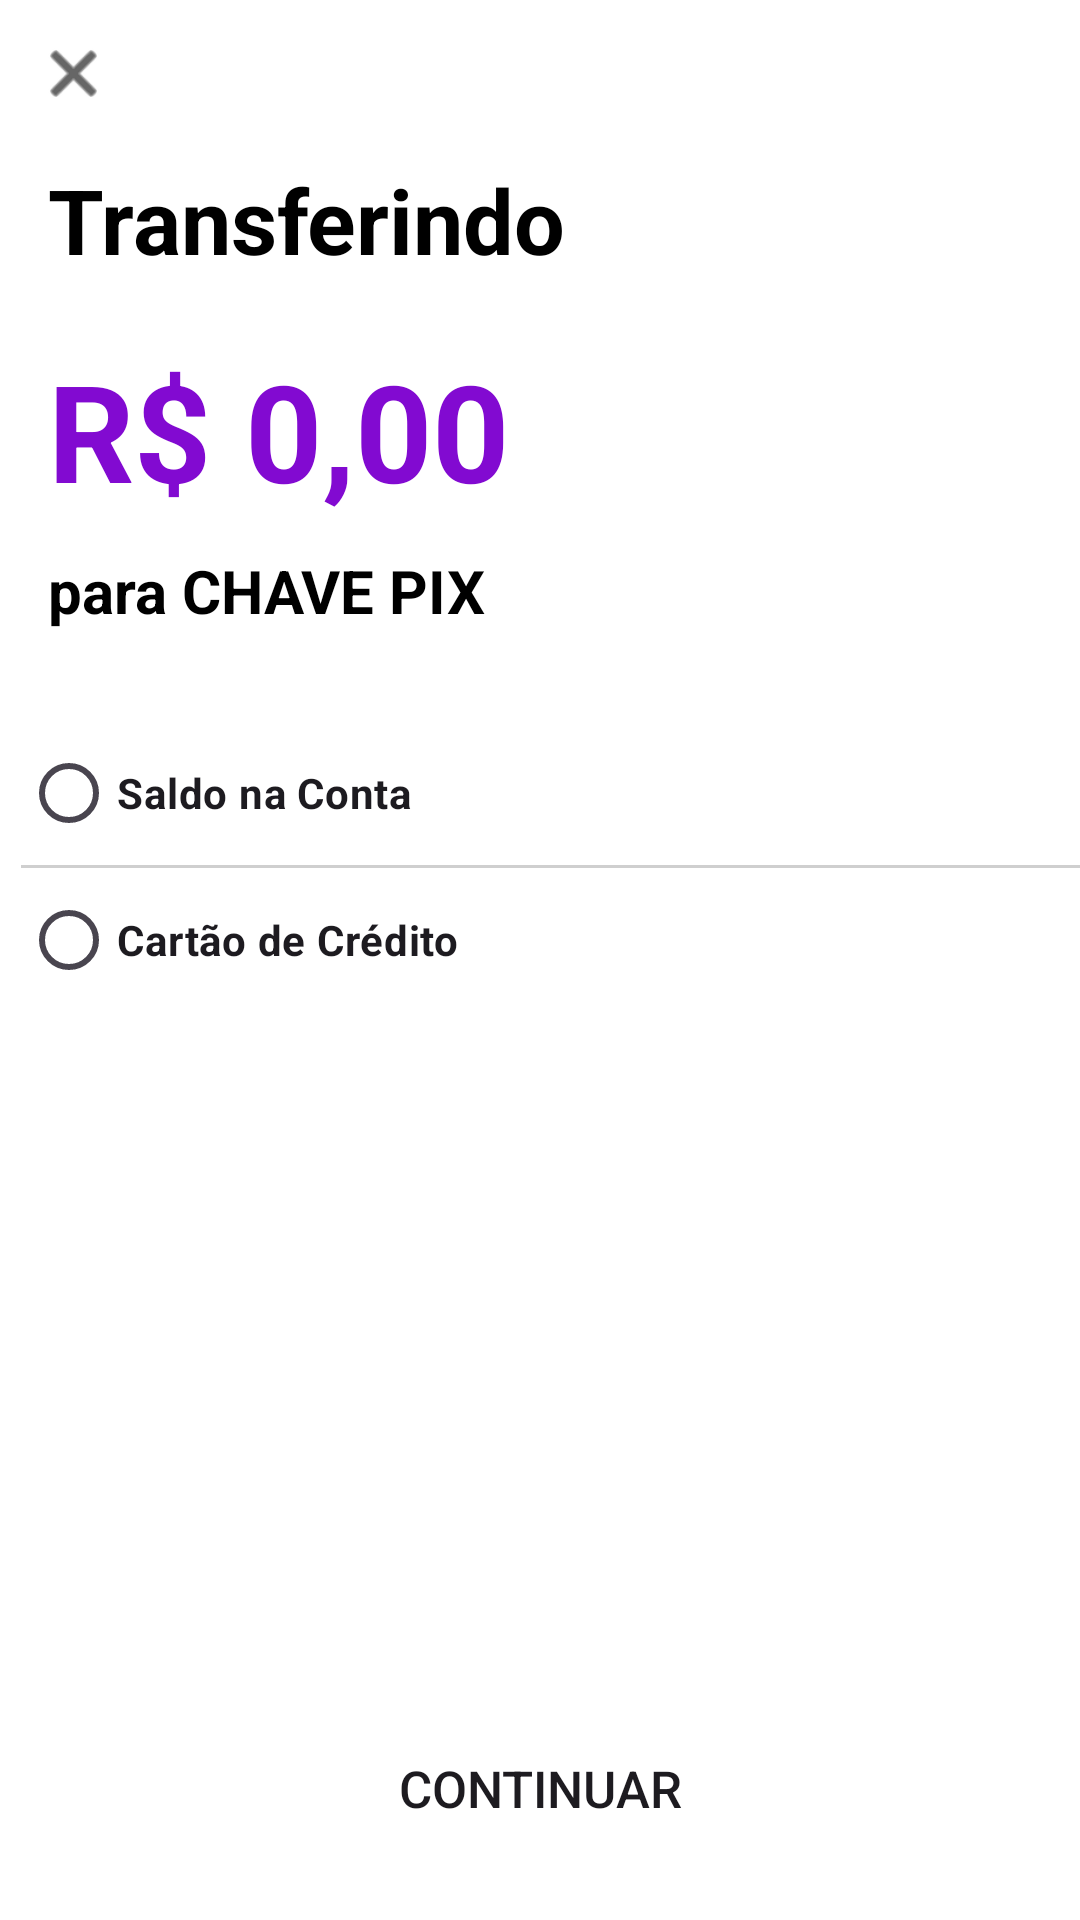

Icons on this 1080w x 1920h Android screen, each with its box as (x1=x1, y1=y1, x2=x2, y2=y2):
close clear cancel: (x1=50, y1=50, x2=97, y2=97)
